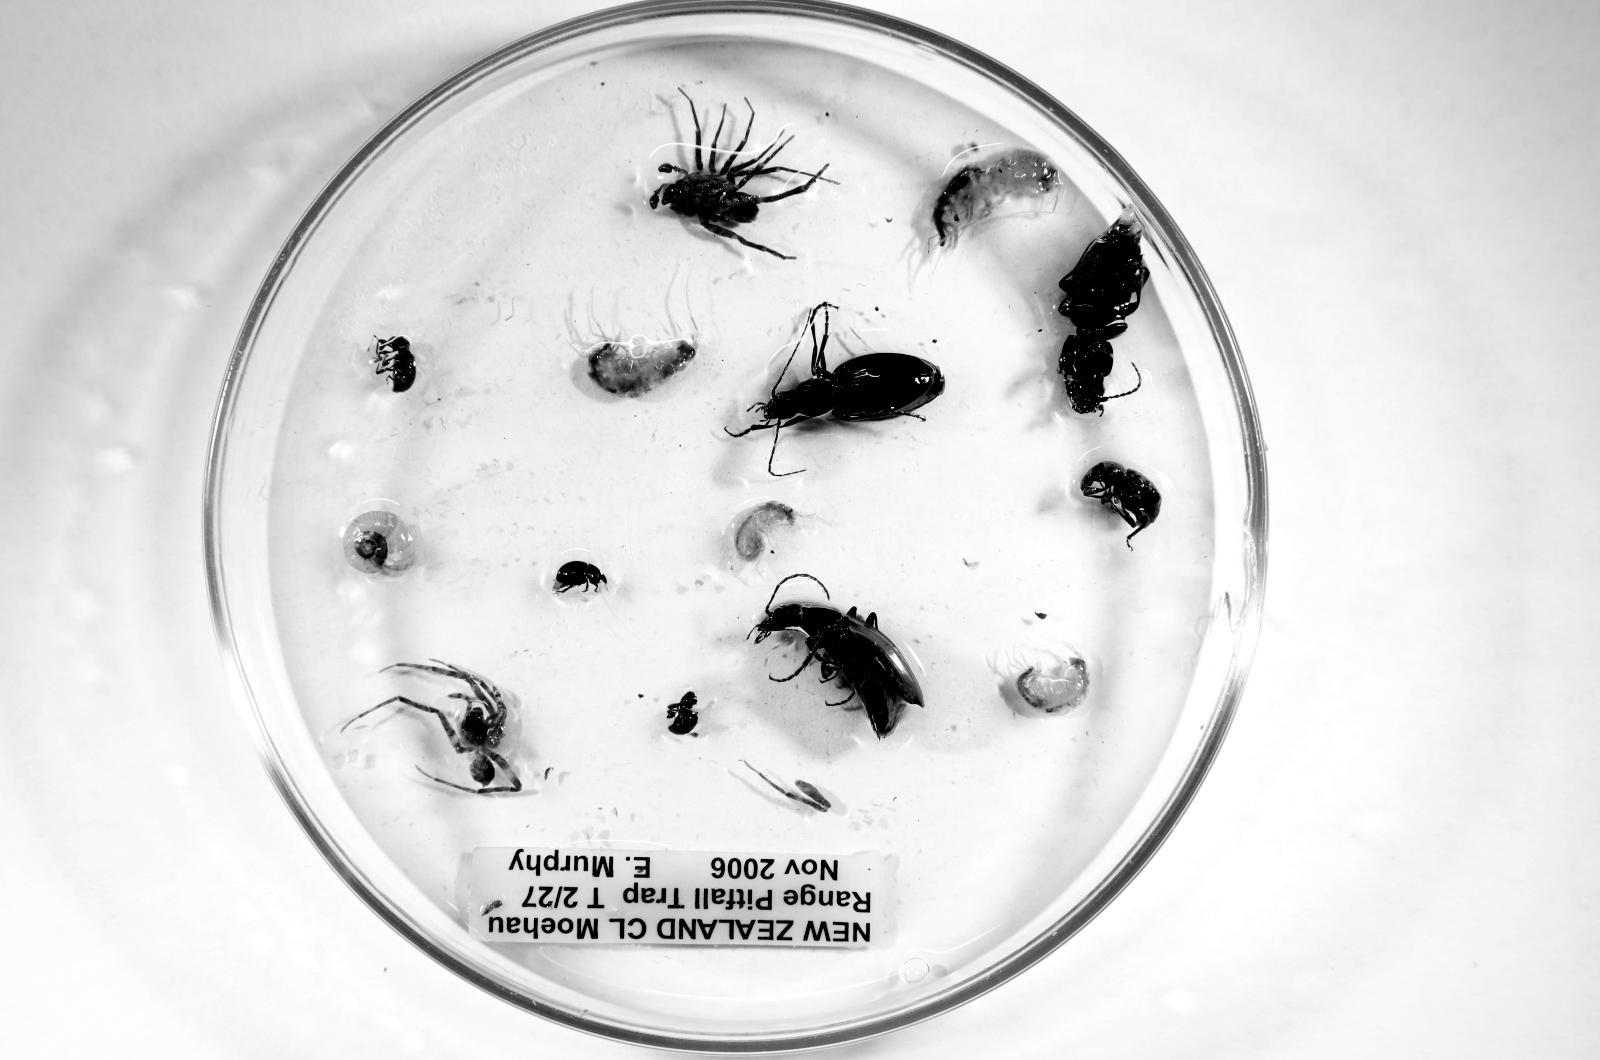amphipoda: (932, 148, 1060, 252), (585, 337, 697, 397), (1016, 652, 1089, 715), (733, 500, 796, 563)
araneae: (647, 89, 829, 259), (343, 659, 522, 794)
carabidae: (744, 303, 945, 433), (756, 603, 924, 737), (1056, 216, 1149, 414)
coleoptera: (1081, 461, 1161, 549), (371, 337, 416, 392), (553, 561, 608, 594), (666, 691, 699, 736)
gastropoda: (343, 510, 415, 574)
